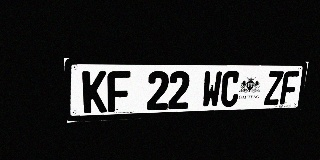2: (147, 71, 169, 110), (168, 71, 190, 109)
C: (220, 71, 241, 107)
F: (107, 71, 130, 112), (280, 71, 299, 104)
K: (82, 71, 107, 113)
W: (201, 71, 222, 108)
Z: (264, 71, 284, 105)
